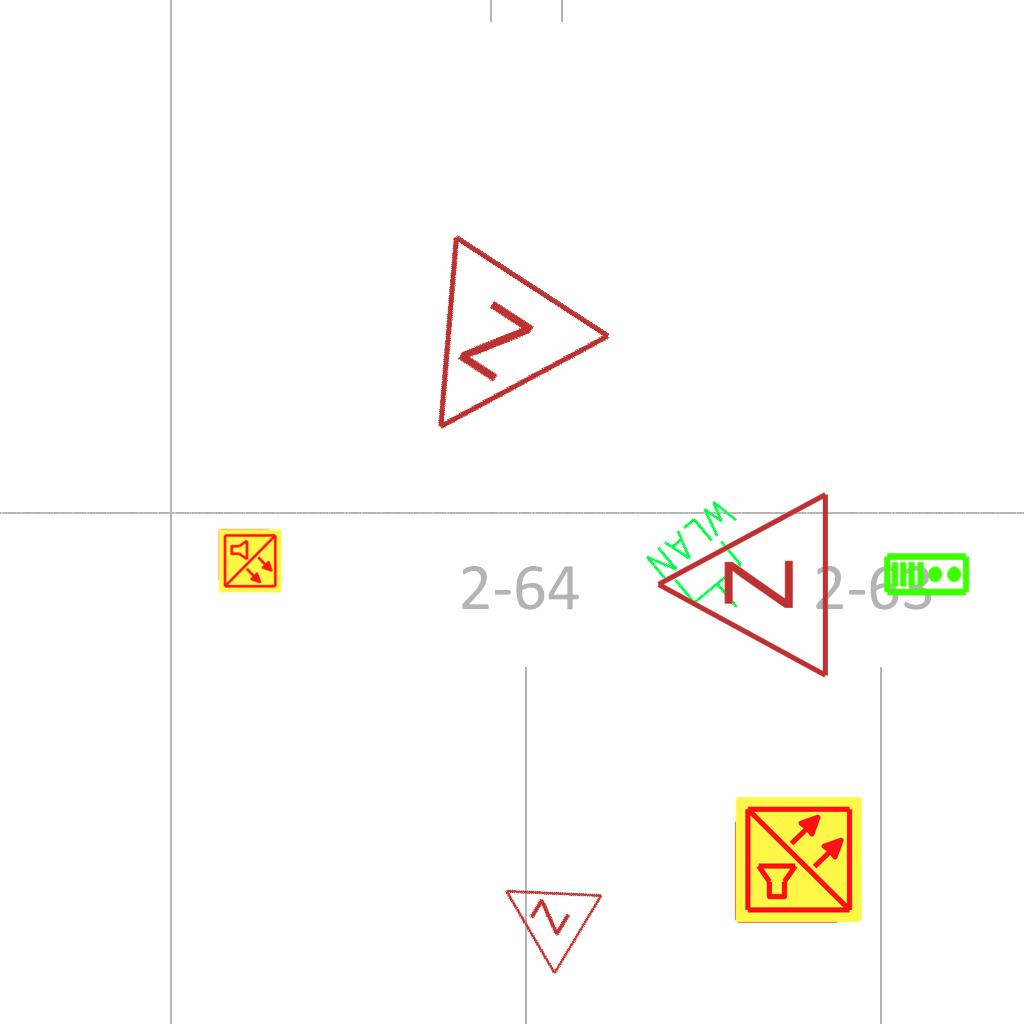Gegensprechanlage_mit_Video: (883, 550, 971, 597)
OKW_Multisensormelder_(Kombination_optischer_Rauch-Kahlenmonoxid_Waerme-Melder): (733, 794, 865, 926), (217, 528, 283, 594)
WLAN: (639, 489, 787, 638)
Zimmersignalleuchte: (352, 219, 626, 495), (643, 489, 843, 685), (473, 846, 611, 982)
